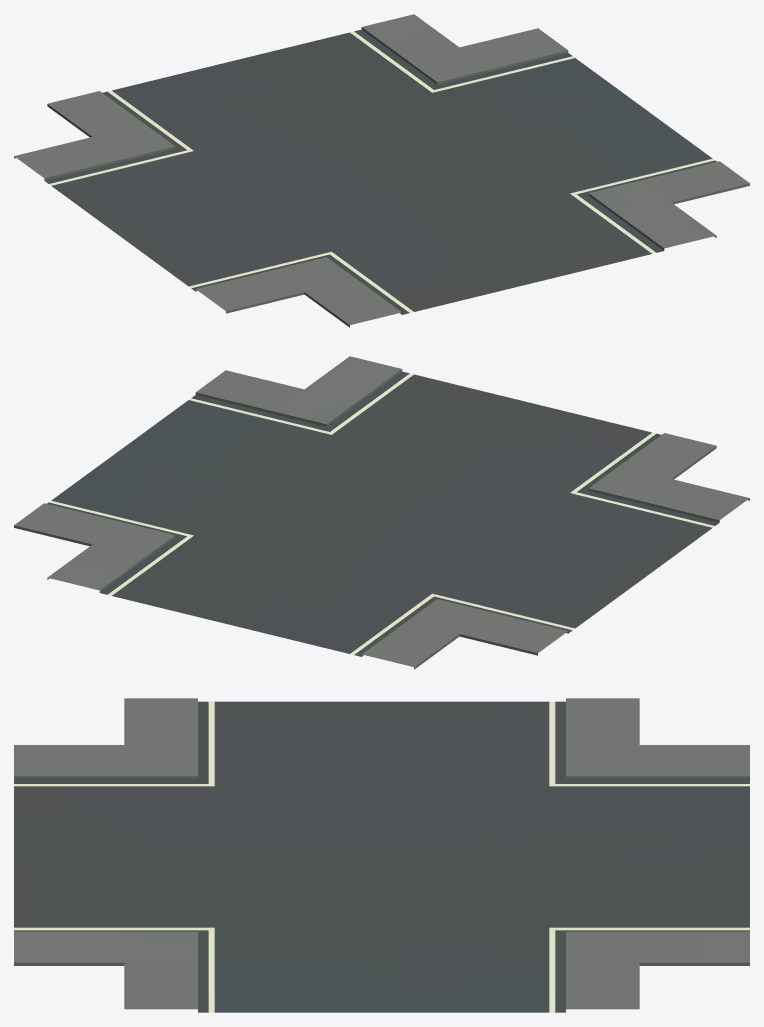
The model's file is city_road_crossroads_3.glb.
The picture shows the model from 3 angles, top to bottom: view 1: azimuth 30°, elevation 25°; view 2: azimuth 150°, elevation 25°; view 3: azimuth 270°, elevation 25°; orthographic projection. The views are drawn at different scales.
Parts seen in each view (by area): view 1: Road_Crossroads_2; view 2: Road_Crossroads_2; view 3: Road_Crossroads_2.
Part boxes in pixels (box(x1,y1,x2,y2)): Road_Crossroads_2: box(14, 14, 749, 327); Road_Crossroads_2: box(14, 356, 749, 669); Road_Crossroads_2: box(14, 698, 749, 1012).
Bounding box in the file's own units: 8.57 × 0.0398 × 8.57.
Materials: 1 (1 with a texture image).
